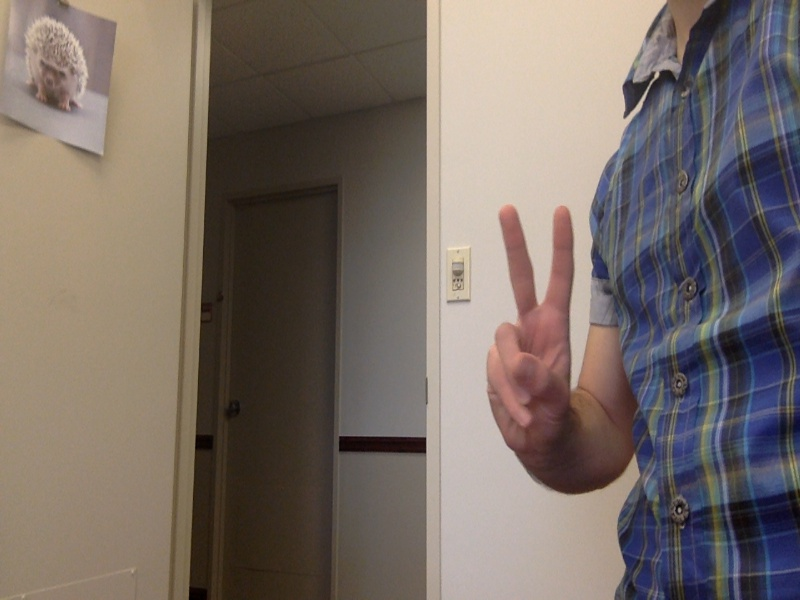2-hand: (480, 206, 584, 463)
